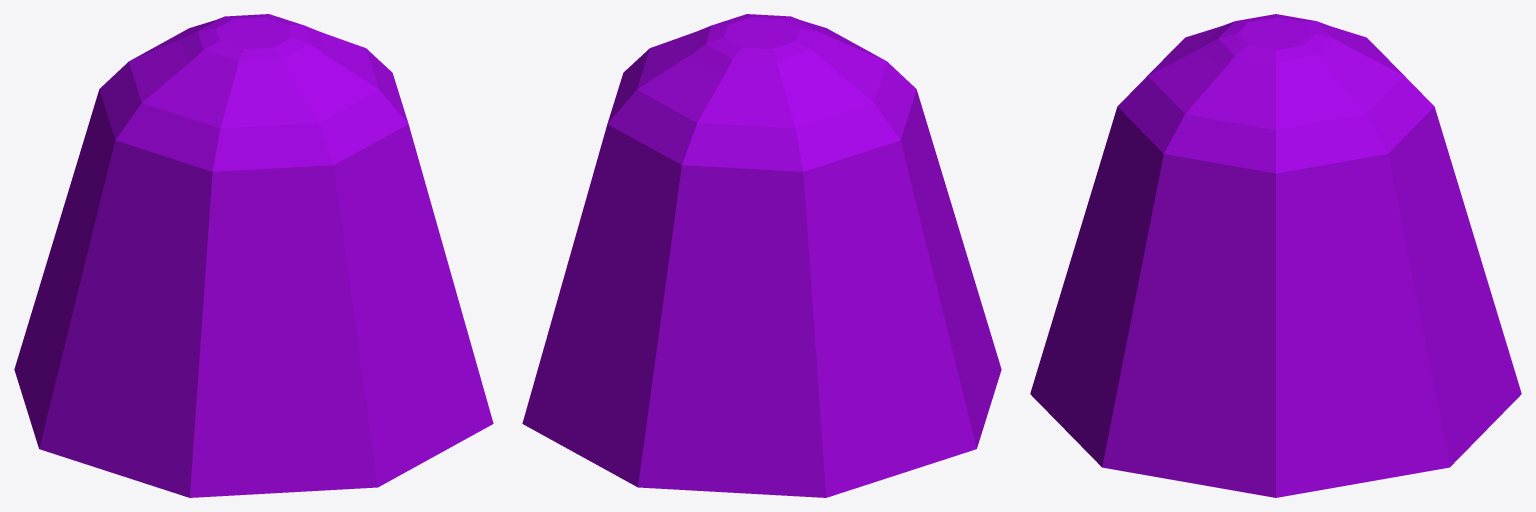
Rendered from Gum_Drop.fbx.
The picture shows the model from 3 angles, left to right: view 1: azimuth 30°, elevation 25°; view 2: azimuth 150°, elevation 25°; view 3: azimuth 270°, elevation 25°; orthographic projection.
Visible parts, largest first — view 1: Cylinder; view 2: Cylinder; view 3: Cylinder.
Boxes of the visible parts, box(x1,y1,x2,y2) form: Cylinder: box(14, 14, 493, 497); Cylinder: box(522, 14, 1001, 497); Cylinder: box(1030, 14, 1521, 497).
Bounding box in the file's own units: 154 × 124 × 154.
